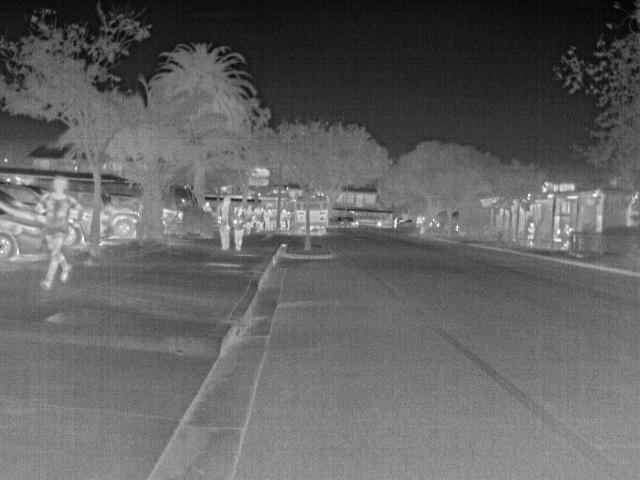car: (1, 204, 46, 266), (104, 202, 142, 244), (163, 206, 187, 234)
person: (36, 176, 84, 294), (215, 193, 232, 252), (230, 201, 246, 250), (242, 207, 255, 234), (527, 220, 538, 246), (551, 228, 565, 243), (201, 200, 213, 212), (392, 214, 400, 230)
